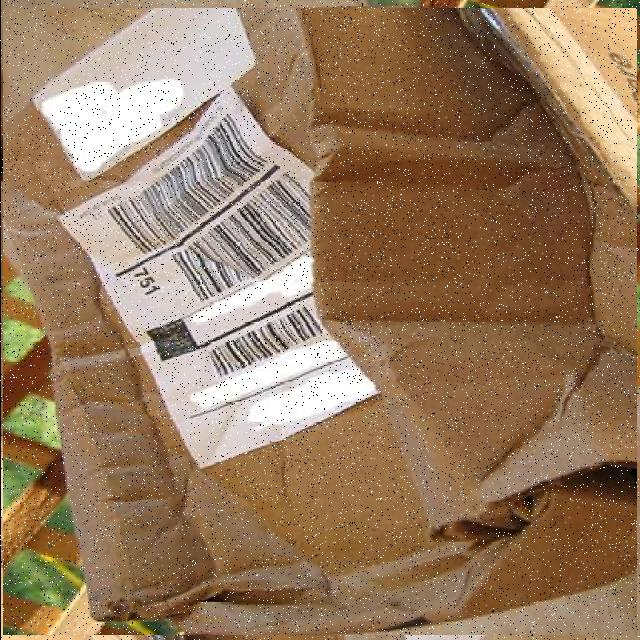defect: (2, 8, 636, 635)
